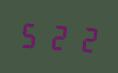five: (18, 17, 43, 51)
two: (71, 20, 96, 55), (45, 19, 70, 53)
